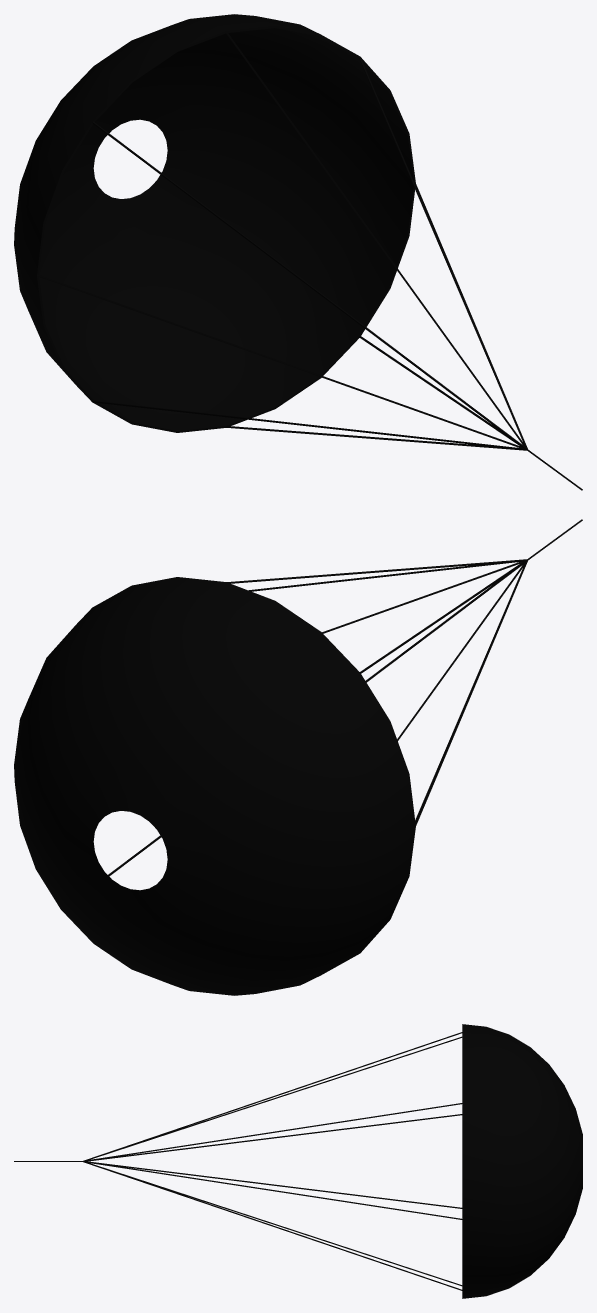
The model's file is Tantares_Parachute_1_Canopy.obj.
3 renders of one model, top to bottom at view 1: azimuth 30°, elevation 25°; view 2: azimuth 150°, elevation 25°; view 3: azimuth 270°, elevation 25°, orthographic. The views are drawn at different scales.
Parts seen in each view (by area): view 1: Tantares_Parachute_1_Canopy; view 2: Tantares_Parachute_1_Canopy; view 3: Tantares_Parachute_1_Canopy.
Part boxes in pixels (x1,y1,x2,y2): Tantares_Parachute_1_Canopy: (14, 14, 582, 490); Tantares_Parachute_1_Canopy: (14, 519, 582, 995); Tantares_Parachute_1_Canopy: (14, 1024, 582, 1298).
Bounding box in the file's own units: 0.08 × 0.08 × 0.165.
1 material, 1 textured.
